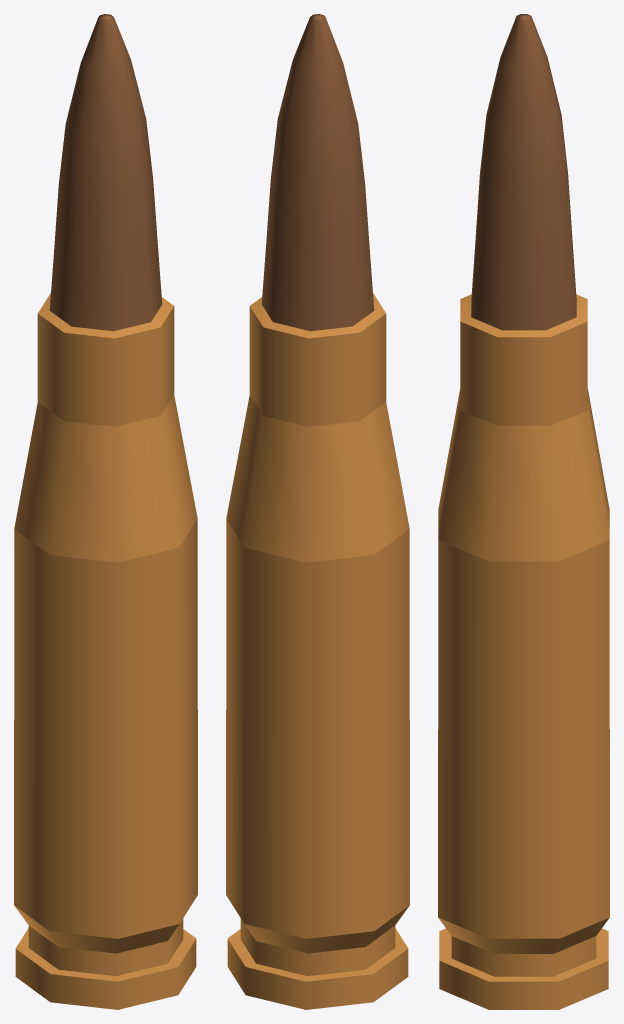
Rendered from SM_Bullet_03.fbx.
3 renders of one model, left to right at view 1: azimuth 30°, elevation 25°; view 2: azimuth 150°, elevation 25°; view 3: azimuth 270°, elevation 25°, orthographic.
Parts seen in each view (by area): view 1: SM_Bullet_03; view 2: SM_Bullet_03; view 3: SM_Bullet_03.
Boxes of the visible parts, left/top/right/bottom form: SM_Bullet_03: left=14, top=14, right=197, bottom=1009; SM_Bullet_03: left=226, top=14, right=409, bottom=1009; SM_Bullet_03: left=438, top=14, right=609, bottom=1009.
Bounding box in the file's own units: 3.58 × 22.1 × 3.58.
Materials: 1 (1 with a texture image).
